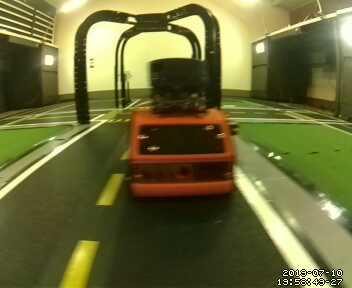pheeno: (122, 58, 239, 201)
